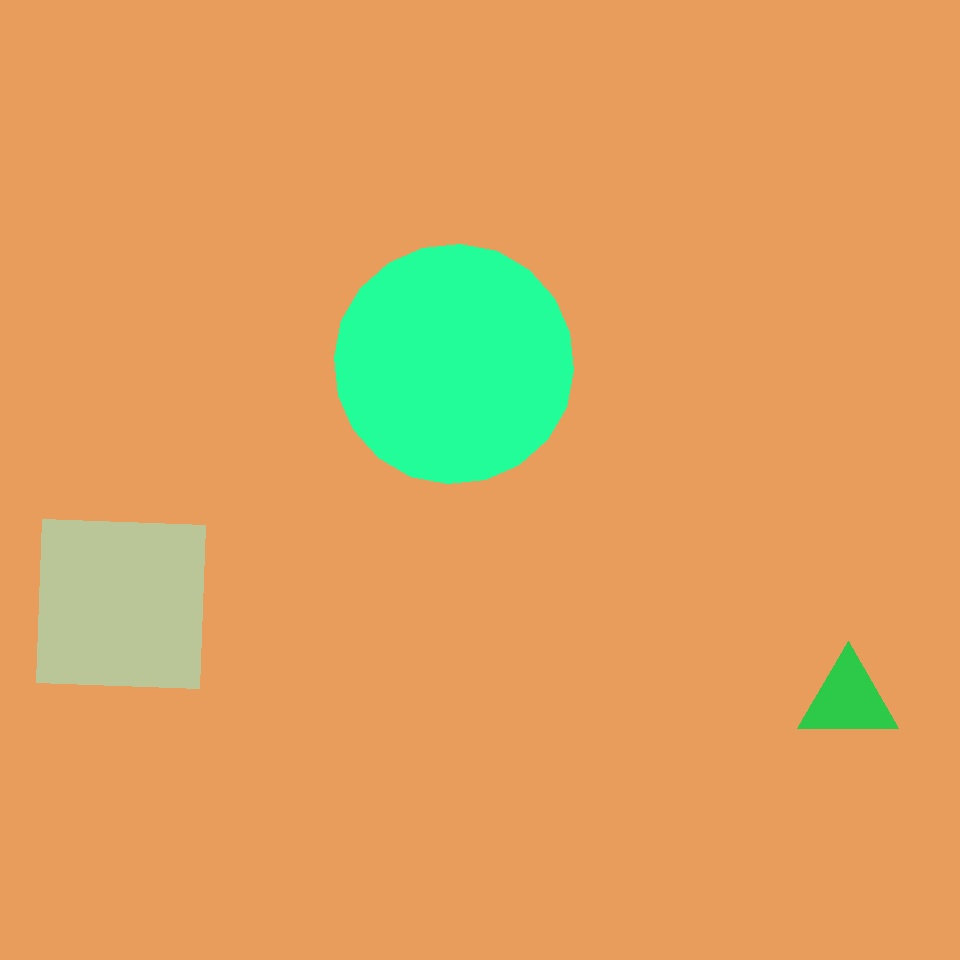circle: (565, 529, 779, 769), (145, 227, 343, 434), (798, 656, 898, 742)
square: (36, 520, 206, 688), (60, 804, 178, 921)
triangle: (334, 244, 574, 484)
